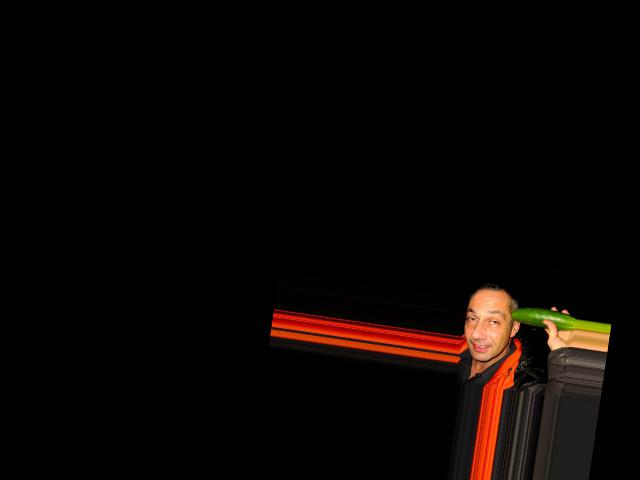cucumber: (509, 304, 576, 332)
